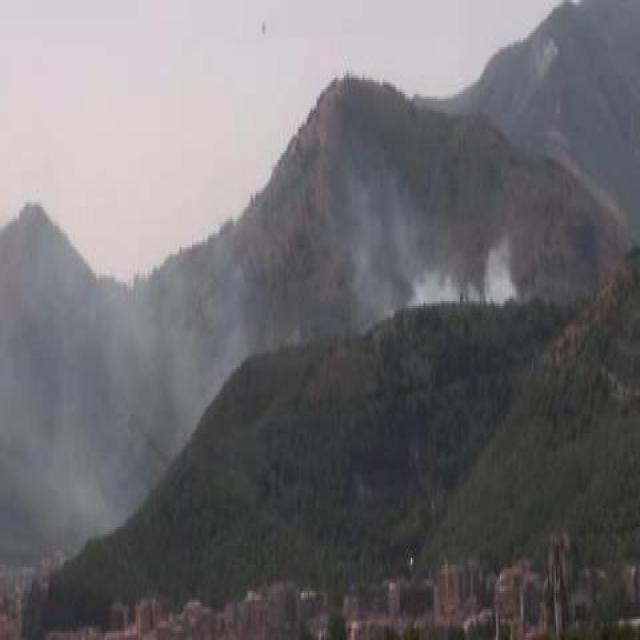Smoke: (350, 174, 518, 315)
